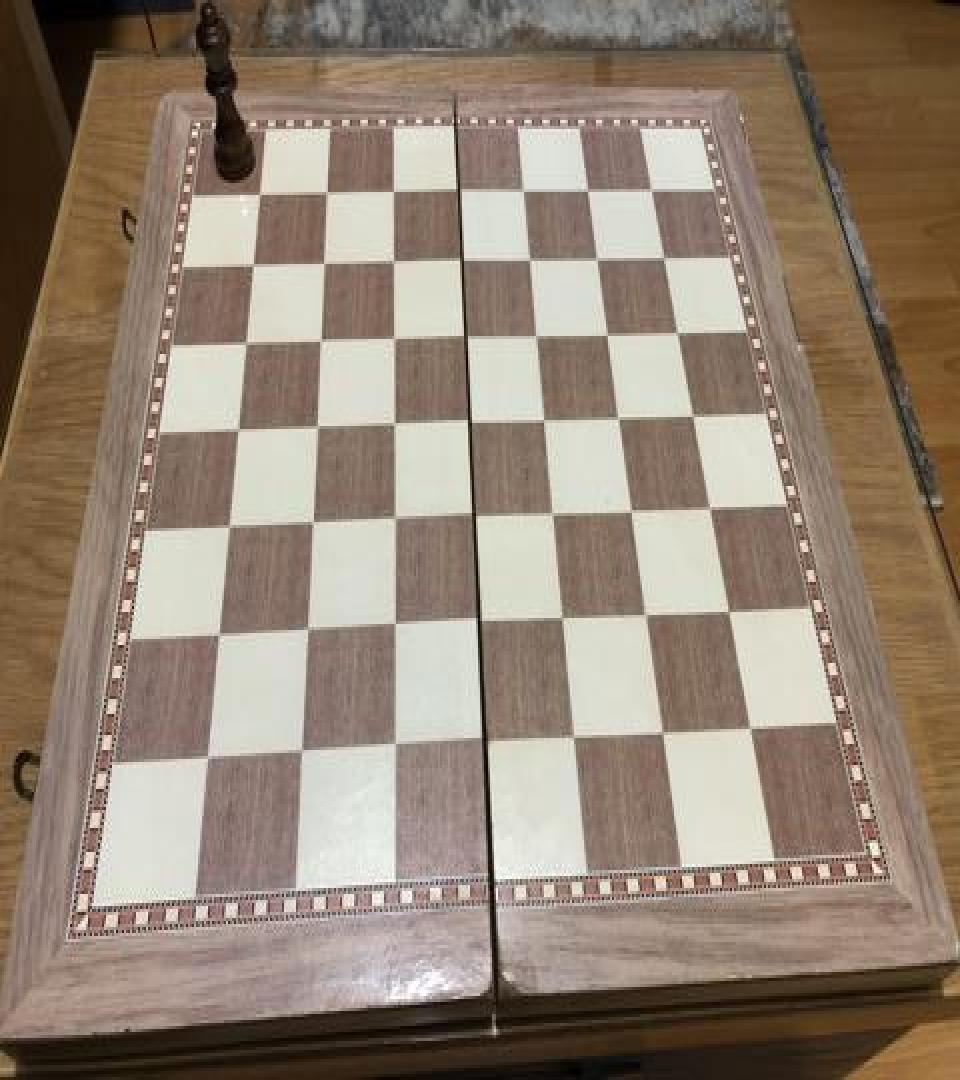xcorner: (476, 727, 500, 764), (641, 174, 665, 210), (578, 174, 602, 210), (514, 174, 538, 210), (449, 174, 473, 210), (383, 176, 407, 212), (316, 176, 340, 212), (249, 176, 273, 212), (653, 242, 677, 278), (587, 243, 611, 279), (520, 243, 544, 279), (452, 244, 476, 280), (383, 244, 407, 280), (313, 246, 337, 282), (242, 248, 266, 284), (667, 316, 691, 352), (598, 318, 622, 354), (527, 320, 551, 356), (456, 321, 480, 357), (383, 322, 407, 358), (310, 324, 334, 360), (235, 326, 259, 362), (683, 399, 707, 435), (609, 402, 633, 438), (535, 404, 559, 440), (460, 406, 484, 442), (383, 408, 407, 444), (306, 411, 330, 447), (700, 492, 724, 528), (622, 495, 646, 531), (544, 498, 568, 534), (465, 501, 489, 537), (384, 504, 408, 540), (301, 507, 325, 543), (218, 510, 242, 546), (718, 594, 742, 630), (637, 598, 661, 634), (554, 603, 578, 639), (470, 608, 494, 644), (384, 612, 408, 648), (297, 615, 321, 651), (208, 620, 232, 656), (740, 711, 764, 747), (653, 716, 677, 752), (565, 722, 589, 758), (384, 732, 408, 768), (291, 738, 315, 774), (197, 744, 221, 780), (227, 413, 251, 448)
